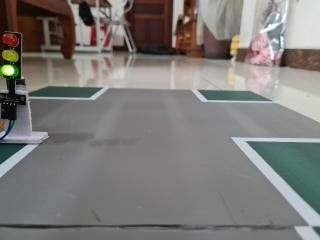green: (0, 26, 27, 97)
